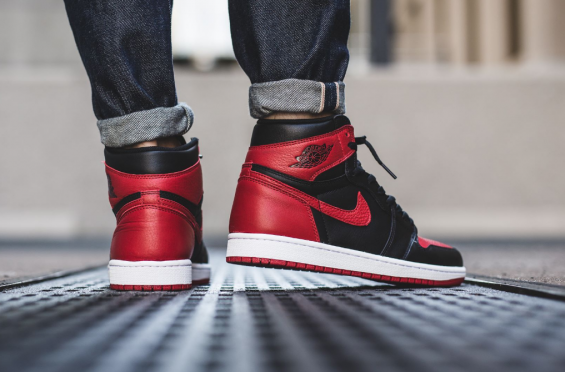Air Jordan 1 Bred: (222, 93, 474, 307), (89, 130, 219, 297)
